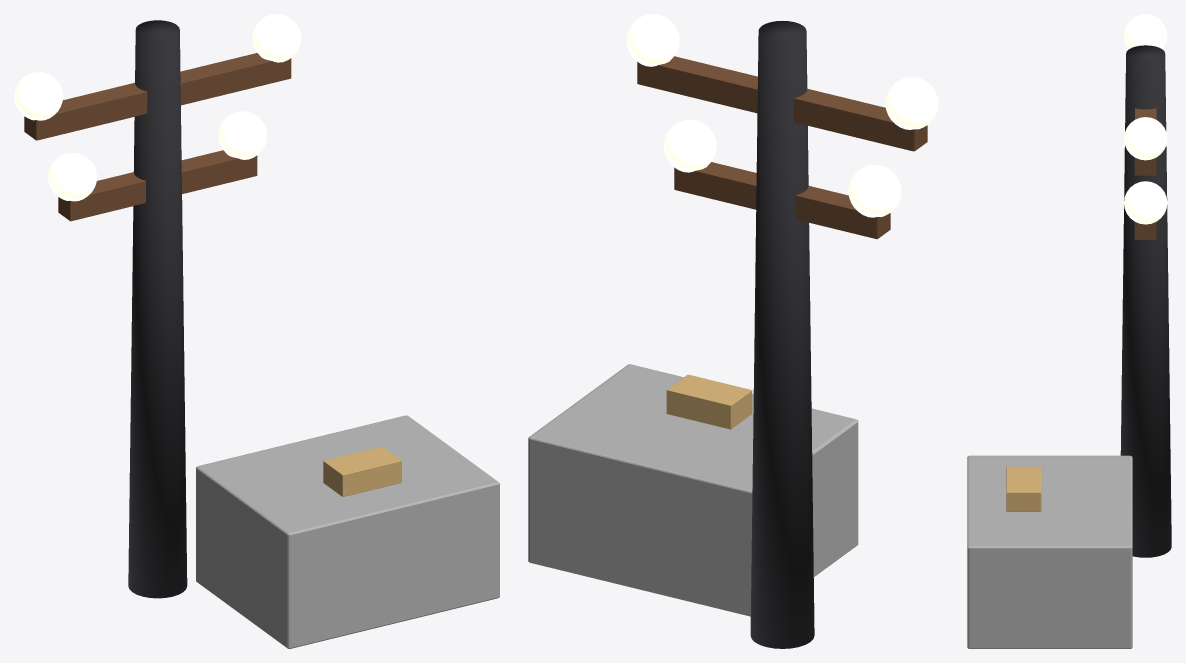
Rendered from uplink.glb.
The picture shows the model from 3 angles, left to right: view 1: azimuth 30°, elevation 25°; view 2: azimuth 150°, elevation 25°; view 3: azimuth 270°, elevation 25°; orthographic projection. The views are drawn at different scales.
Visible parts, largest first — view 1: machines/uplink; view 2: machines/uplink; view 3: machines/uplink.
Boxes of the visible parts, <box> form: machines/uplink: <box>14,14,499,648</box>; machines/uplink: <box>528,14,938,648</box>; machines/uplink: <box>967,14,1171,648</box>.
Size of the model in its own units: 0.9 by 1.25 by 0.47.
